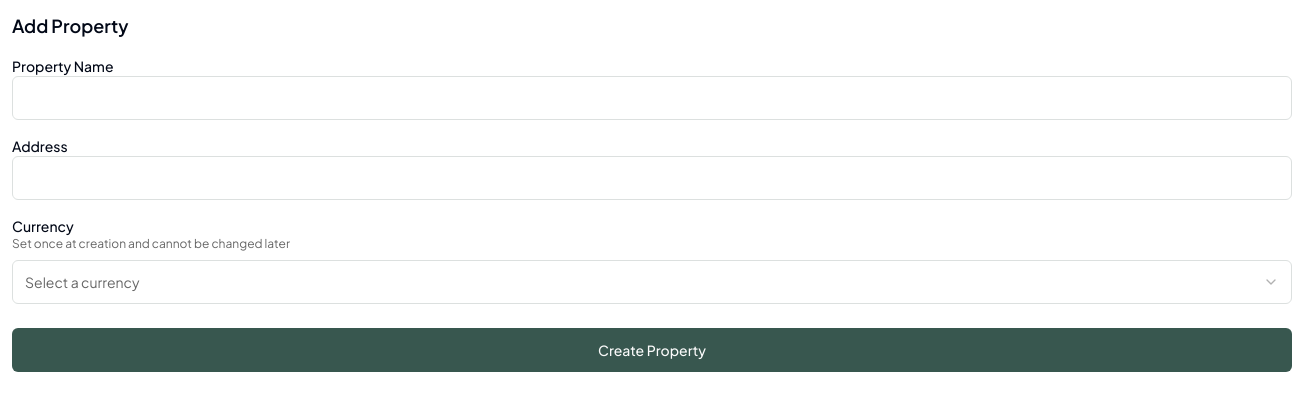
Scenario: PropertyForm › bad cases › shows currency validation error when no currency is selected
Step 1. Type "My Kost" into the field labelled "Property Name" → (652, 98), box top-left (12, 76), bottom-right (1292, 120)
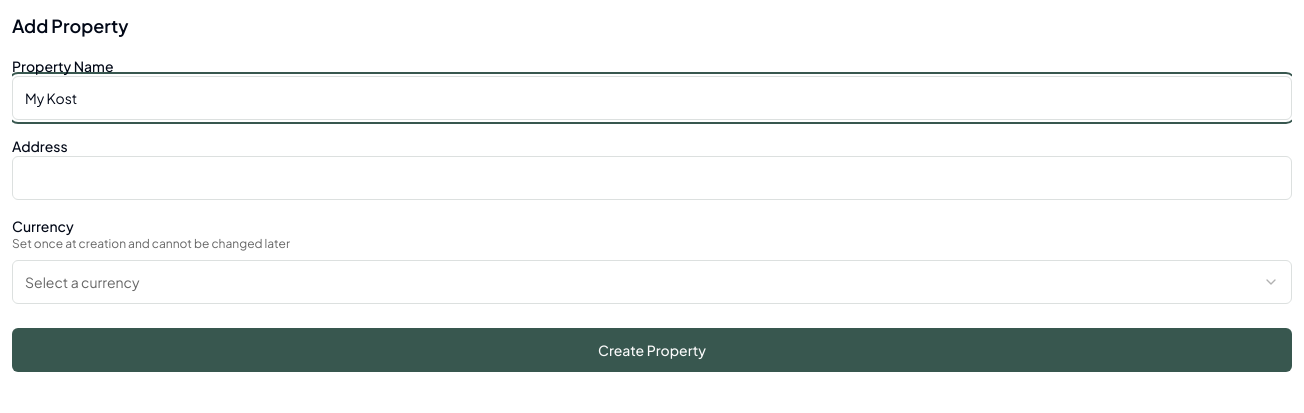
Step 2. Type "Jl. Example 1" into the field labelled "Address" → (652, 178), box top-left (12, 156), bottom-right (1292, 200)
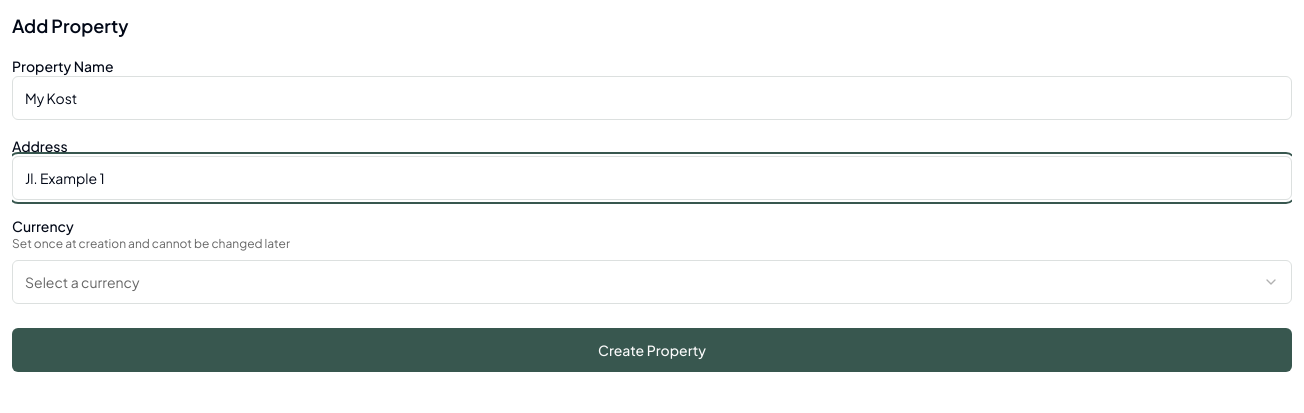
Step 3. Click the button "Create Property" → (652, 350), box top-left (12, 328), bottom-right (1292, 372)
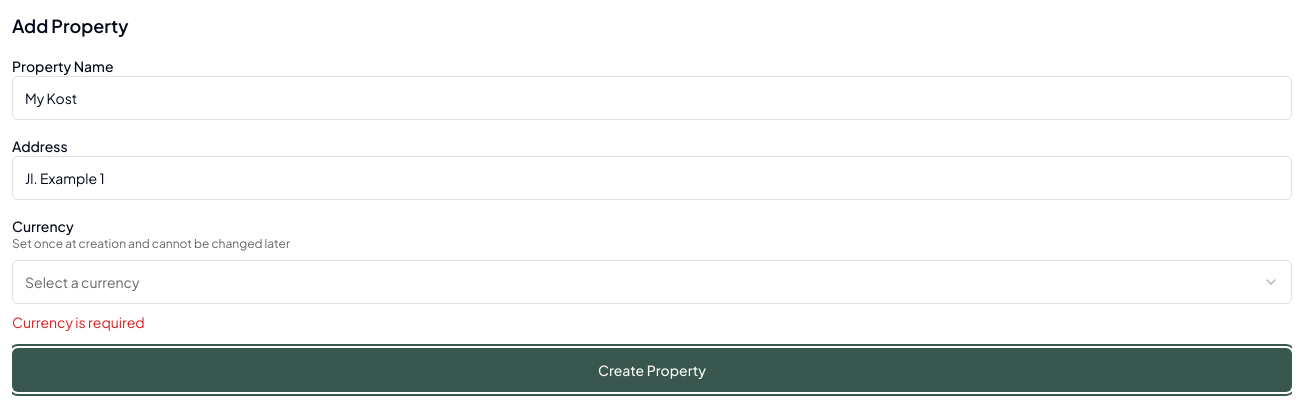
expect the text "Currency is required" is shown: met, box top-left (12, 313), bottom-right (145, 331)
